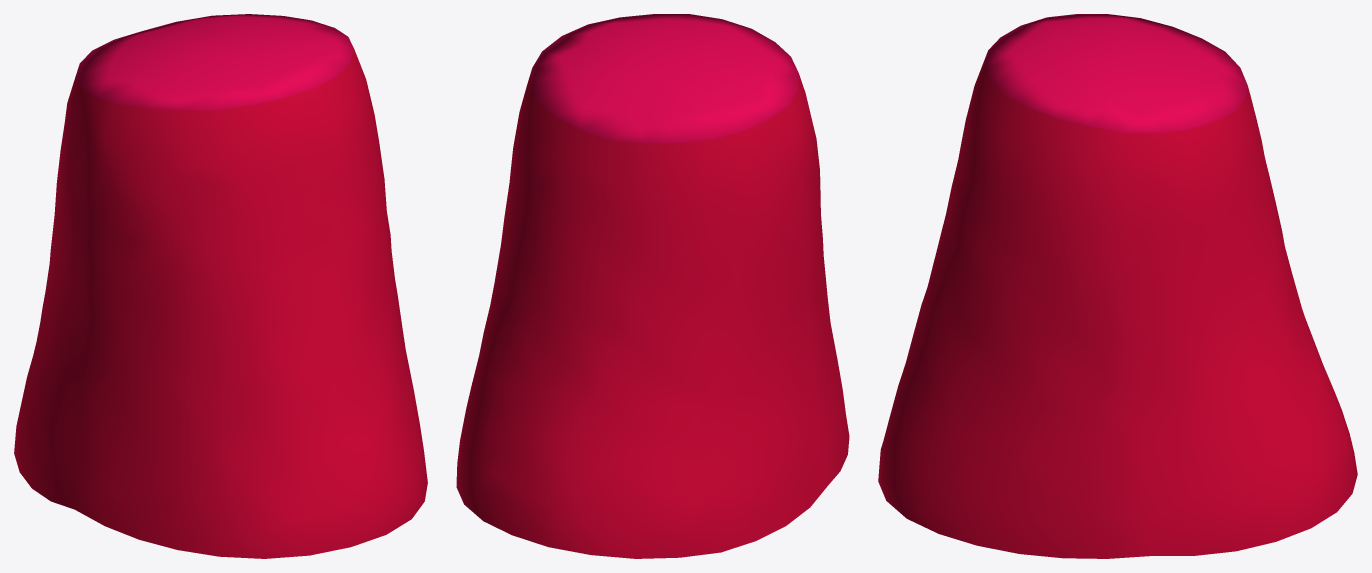
The model's file is outfit_fez.glb.
3 renders of one model, left to right at view 1: azimuth 30°, elevation 25°; view 2: azimuth 150°, elevation 25°; view 3: azimuth 270°, elevation 25°, orthographic. The views are drawn at different scales.
Visible parts, largest first — view 1: outfit_fez; view 2: outfit_fez; view 3: outfit_fez.
Part boxes in pixels (bbox=[...]): outfit_fez: bbox=[14, 14, 427, 558]; outfit_fez: bbox=[456, 14, 849, 558]; outfit_fez: bbox=[878, 14, 1357, 558].
Size of the model in its own units: 0.2422 by 0.3 by 0.3012.
